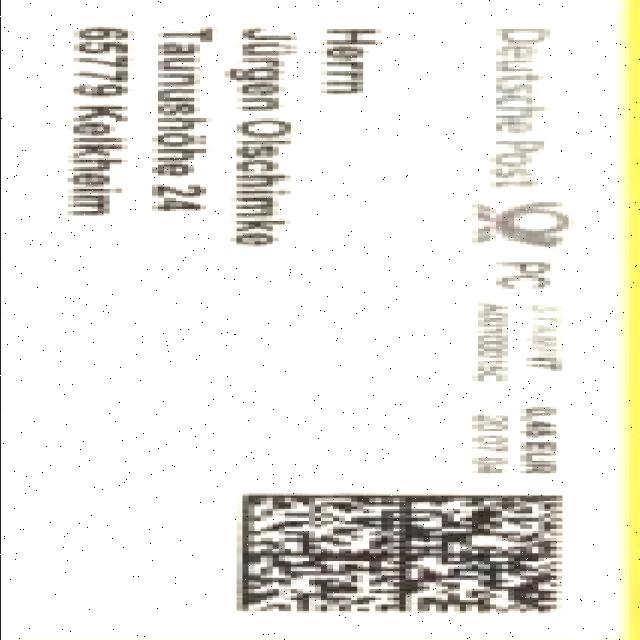datamatrix: (217, 489, 592, 620)
